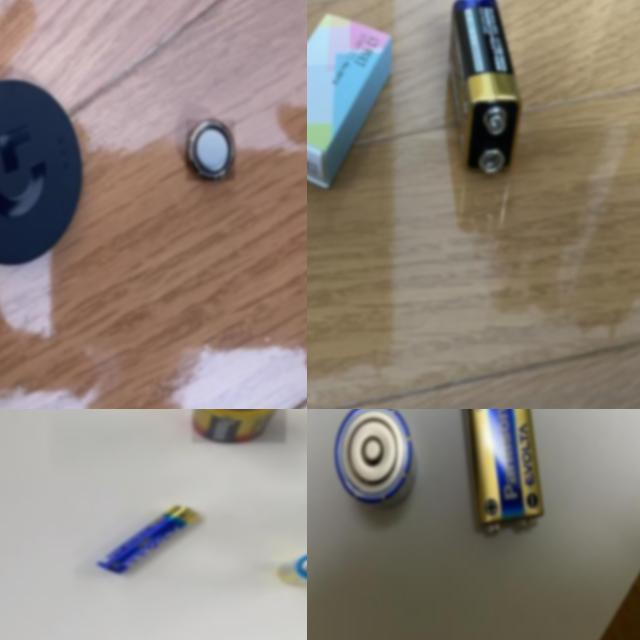9V: (449, 0, 522, 173), (459, 409, 543, 536)
